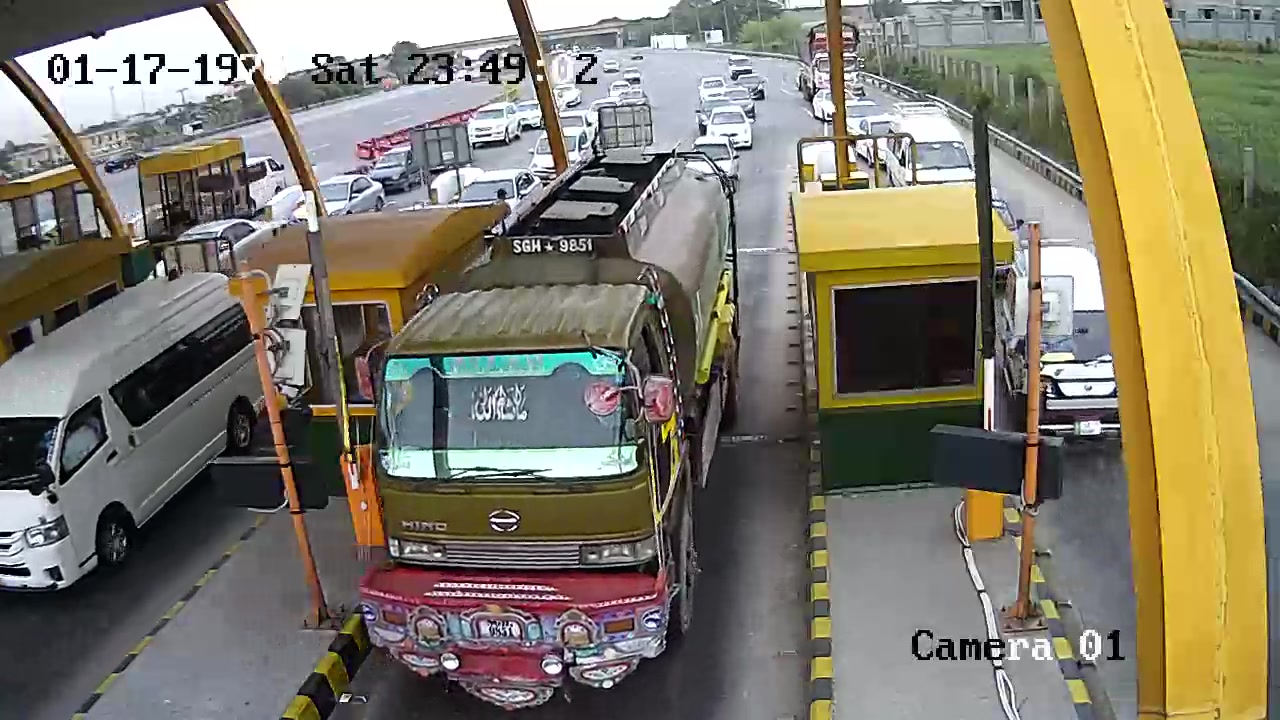F6: (349, 139, 751, 703)
